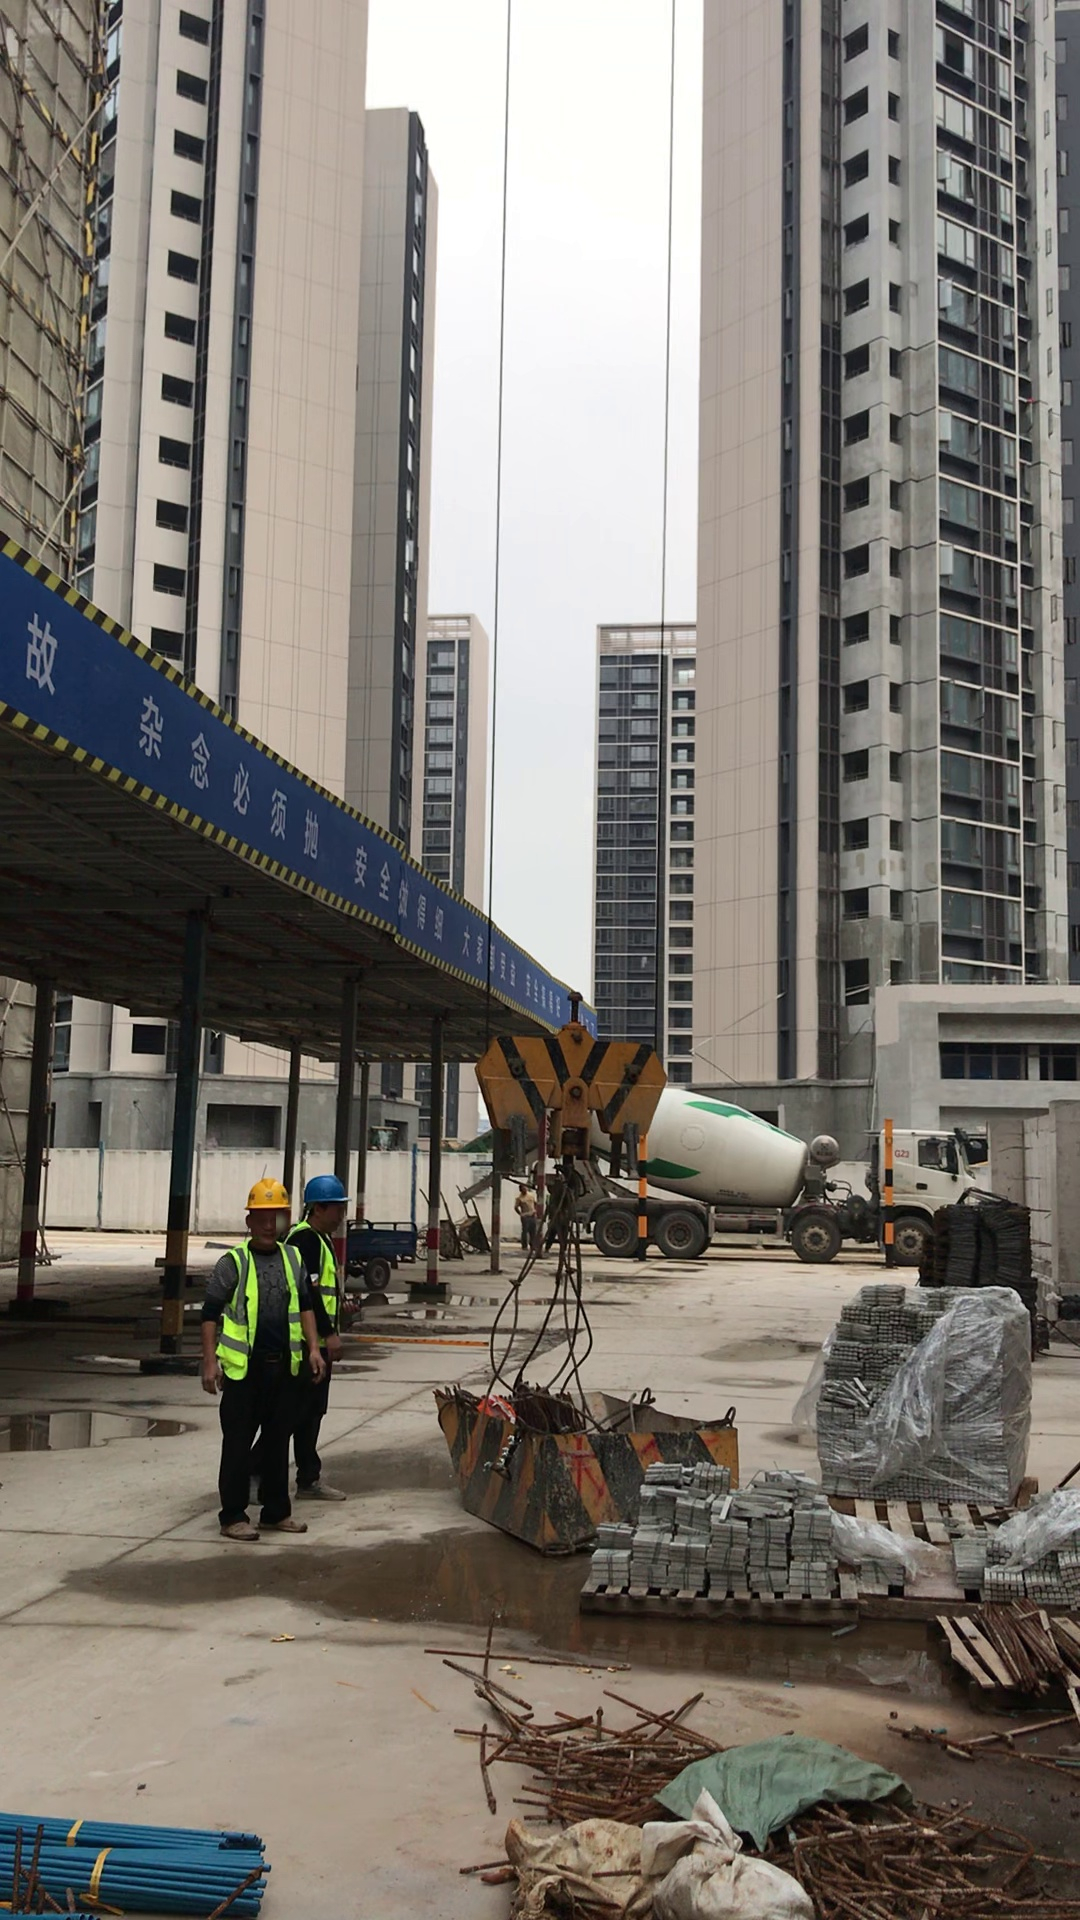helmet: (241, 1177, 289, 1210), (303, 1172, 353, 1203)
hook: (466, 978, 699, 1205)
hopper: (434, 1361, 745, 1557)
person: (192, 1168, 326, 1545), (290, 1172, 373, 1506), (512, 1182, 539, 1249)
slogan: (7, 549, 589, 1022)
vest: (211, 1239, 307, 1387), (297, 1231, 346, 1323)
